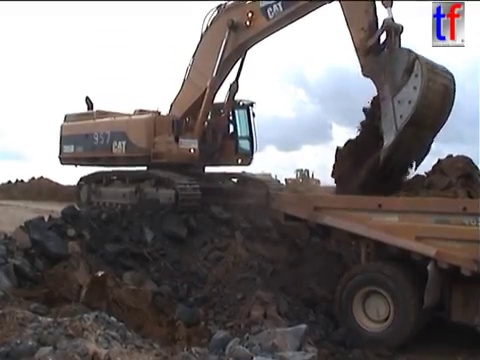excavator: (56, 1, 459, 225)
truck: (264, 187, 480, 356)
wheel loader: (274, 167, 322, 197)
